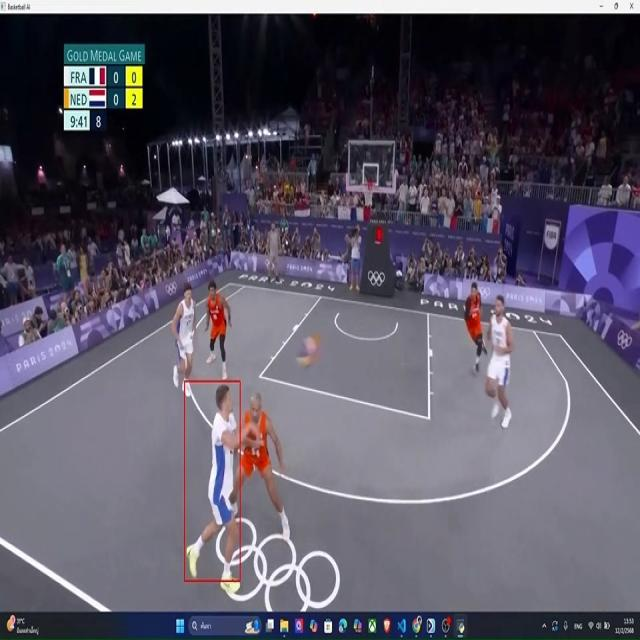basketball: (299, 337, 316, 370)
hoop: (361, 177, 374, 209)
